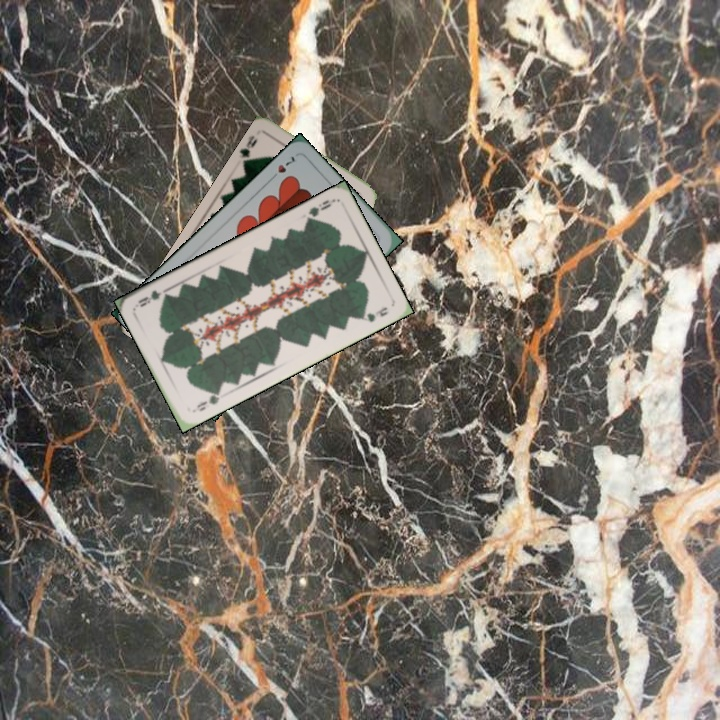G9: (302, 195, 337, 225), (188, 386, 223, 415), (237, 131, 260, 167)
H7: (266, 152, 297, 183)
